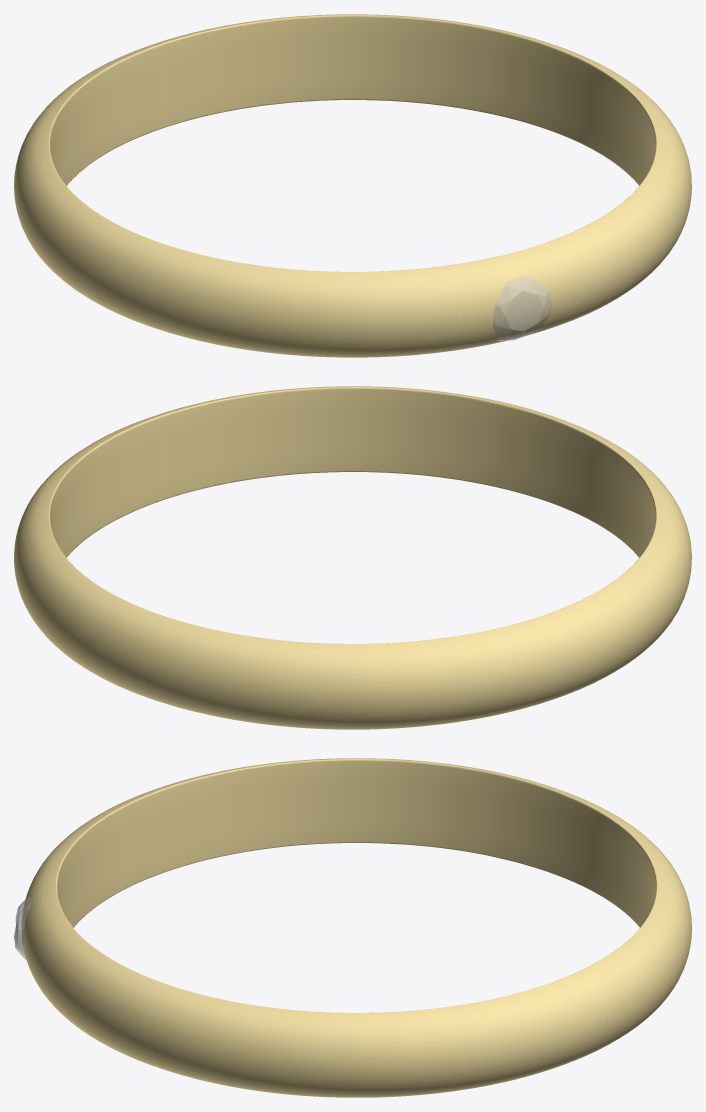
3 views of the same model, one above another, from view 1: azimuth 30°, elevation 25°; view 2: azimuth 150°, elevation 25°; view 3: azimuth 270°, elevation 25° (orthographic).
Parts seen in each view (by area): view 1: Base_Metal_NoDiamond, Engraving_Metal, Base_metal, Diamond_Metal; view 2: Base_Metal_NoDiamond, Engraving_Metal, Base_metal; view 3: Engraving_Metal, Base_Metal_NoDiamond, Base_metal, Diamond_Metal.
Part boxes in pixels (bbox=[...]): Base_Metal_NoDiamond: bbox=[14, 14, 691, 340]; Engraving_Metal: bbox=[50, 17, 655, 185]; Base_metal: bbox=[14, 17, 691, 357]; Diamond_Metal: bbox=[493, 276, 551, 340]; Base_Metal_NoDiamond: bbox=[14, 386, 691, 709]; Engraving_Metal: bbox=[50, 389, 655, 557]; Base_metal: bbox=[14, 389, 690, 729]; Engraving_Metal: bbox=[57, 761, 656, 927]; Base_Metal_NoDiamond: bbox=[21, 758, 691, 1073]; Base_metal: bbox=[25, 760, 691, 1097]; Diamond_Metal: bbox=[14, 896, 31, 959].
Size of the model in its own units: 1.81 by 0.249 by 1.83.
